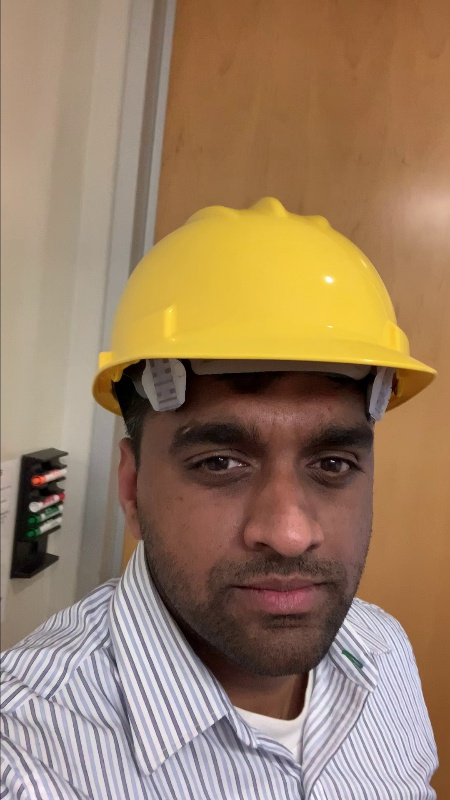helmet: (128, 200, 406, 346)
